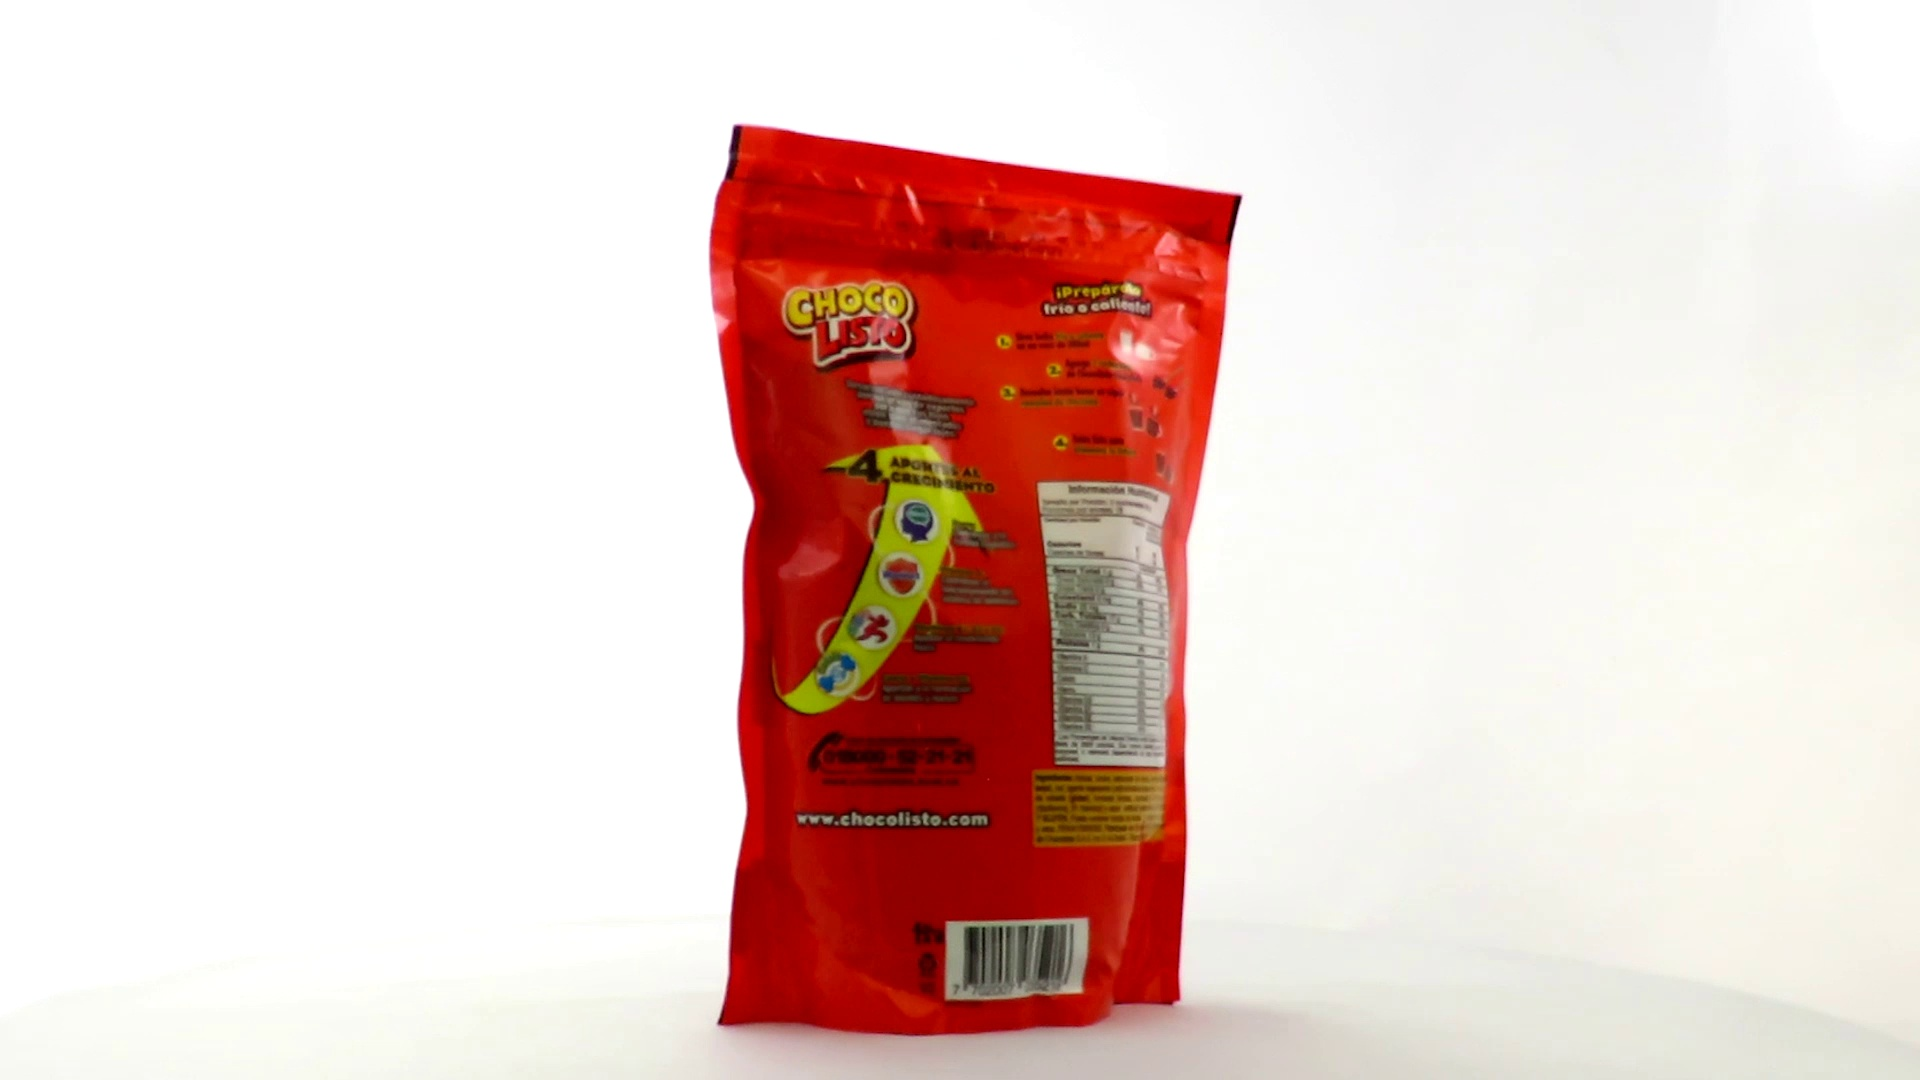COL0170103DYP36000: (704, 120, 1247, 1043)
